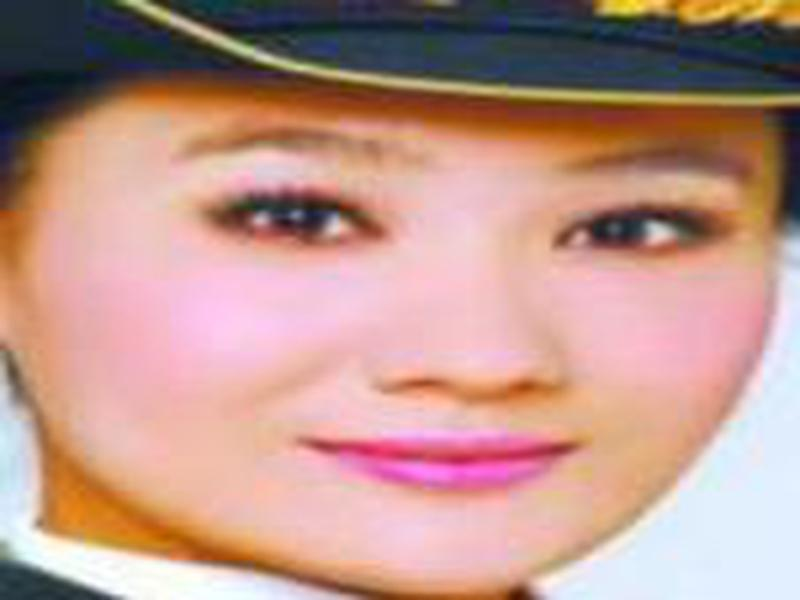without_mask: (6, 105, 782, 600)
